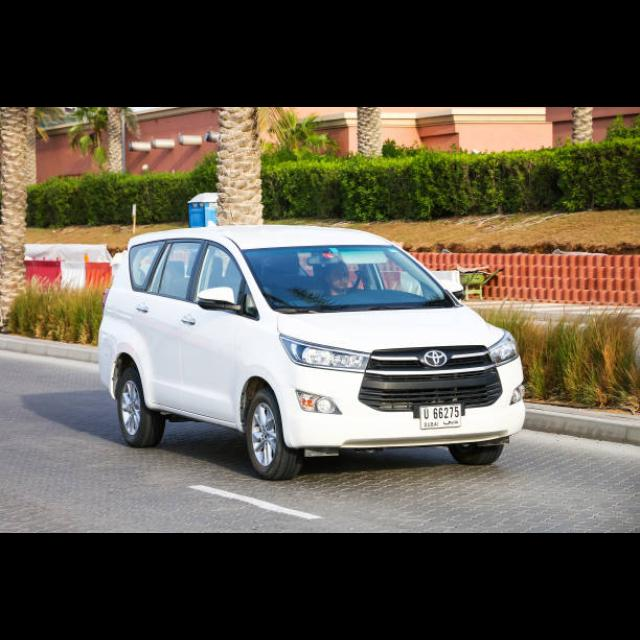number-plate: (414, 400, 465, 432)
vehicles: (105, 230, 528, 485)
